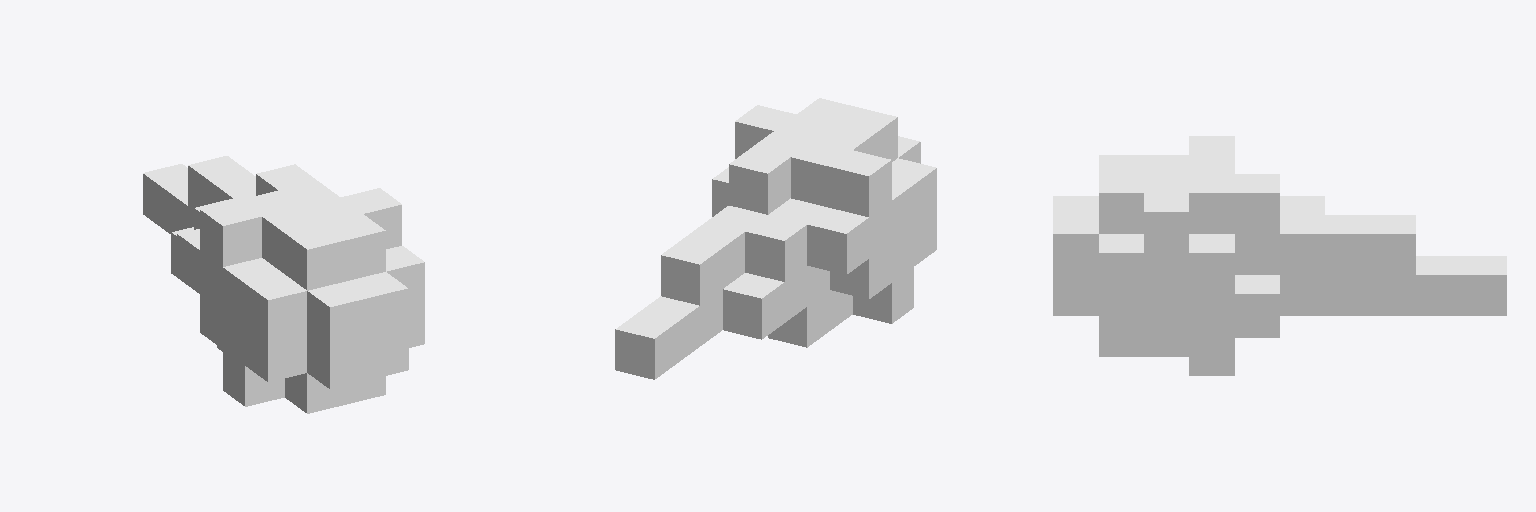
The model's file is placeholder_wand-0.obj.
3 views of the same model, side by side, from view 1: azimuth 30°, elevation 25°; view 2: azimuth 150°, elevation 25°; view 3: azimuth 270°, elevation 25° (orthographic).
Parts seen in each view (by area): view 1: object 1; view 2: object 1; view 3: object 1.
Boxes of the visible parts, x1=… form: object 1: x1=143, y1=156, x2=424, y2=413; object 1: x1=615, y1=98, x2=936, y2=379; object 1: x1=1053, y1=136, x2=1506, y2=375.
Bounding box in the file's own units: 0.4 × 0.4 × 1.